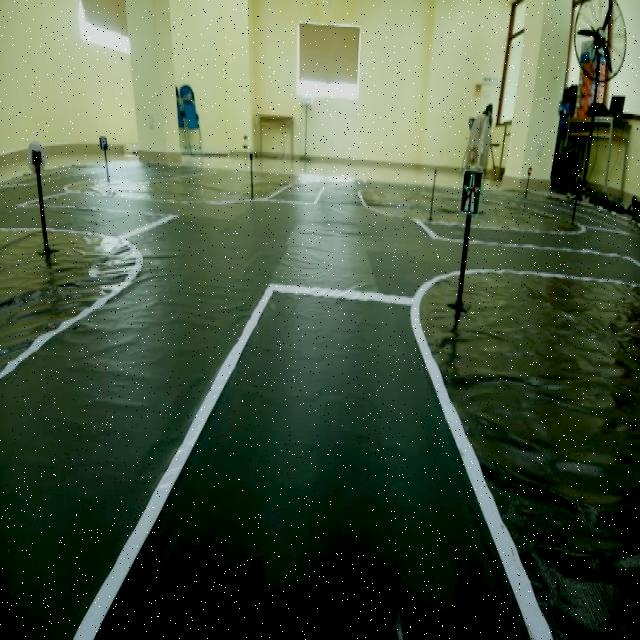highway_exit: (458, 165, 485, 222)
